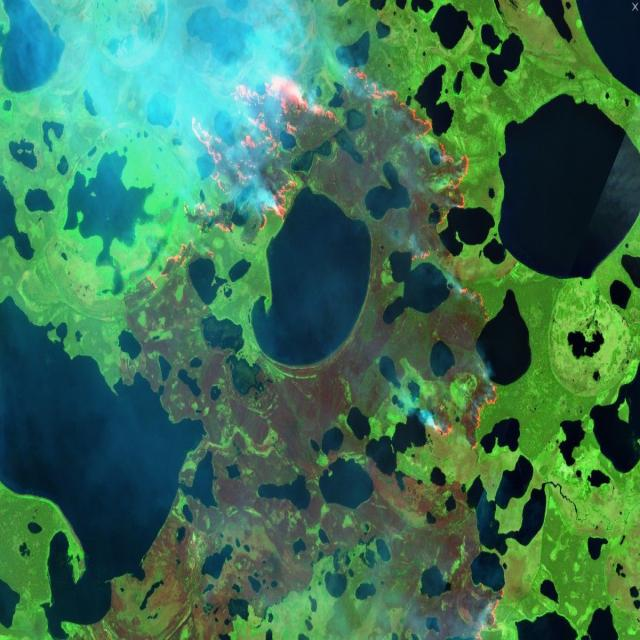fire: (167, 62, 467, 294), (423, 369, 503, 451), (468, 582, 509, 640)
